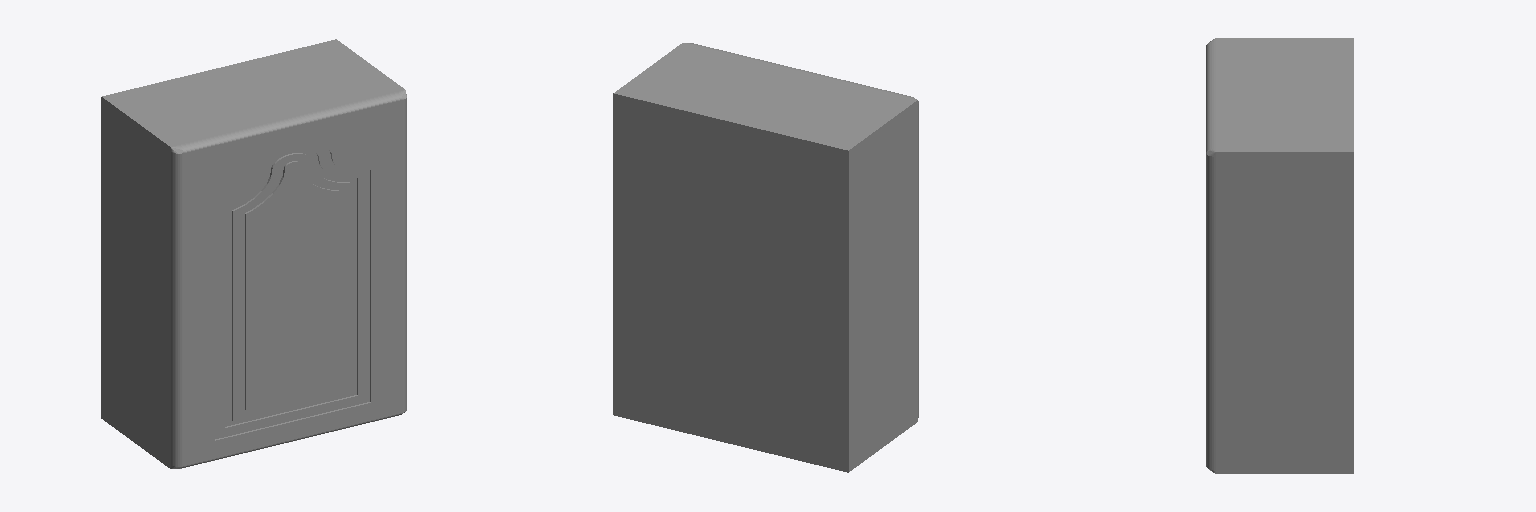
File: single-wall-unit-550.obj
3 renders of one model, left to right at view 1: azimuth 30°, elevation 25°; view 2: azimuth 150°, elevation 25°; view 3: azimuth 270°, elevation 25°, orthographic.
Visible parts, largest first — view 1: Cube.003_Cube.008, Cube.002_Cube.004, Cube_Cube.002; view 2: Cube_Cube.002, Cube.002_Cube.004, Cube.001_Cube.003, Cube.003_Cube.008; view 3: Cube.001_Cube.003, Cube_Cube.002, Cube.003_Cube.008.
Boxes of the visible parts, x1=… form: Cube.003_Cube.008: x1=171, y1=90, x2=406, y2=468; Cube.002_Cube.004: x1=101, y1=95, x2=176, y2=468; Cube_Cube.002: x1=109, y1=41, x2=398, y2=144; Cube_Cube.002: x1=620, y1=45, x2=910, y2=470; Cube.002_Cube.004: x1=842, y1=99, x2=917, y2=472; Cube.001_Cube.003: x1=613, y1=43, x2=688, y2=416; Cube.003_Cube.008: x1=685, y1=43, x2=918, y2=417; Cube.001_Cube.003: x1=1216, y1=149, x2=1353, y2=473; Cube_Cube.002: x1=1216, y1=41, x2=1353, y2=148; Cube.003_Cube.008: x1=1206, y1=38, x2=1215, y2=473.
Size of the model in its own units: 110 by 144 by 60.